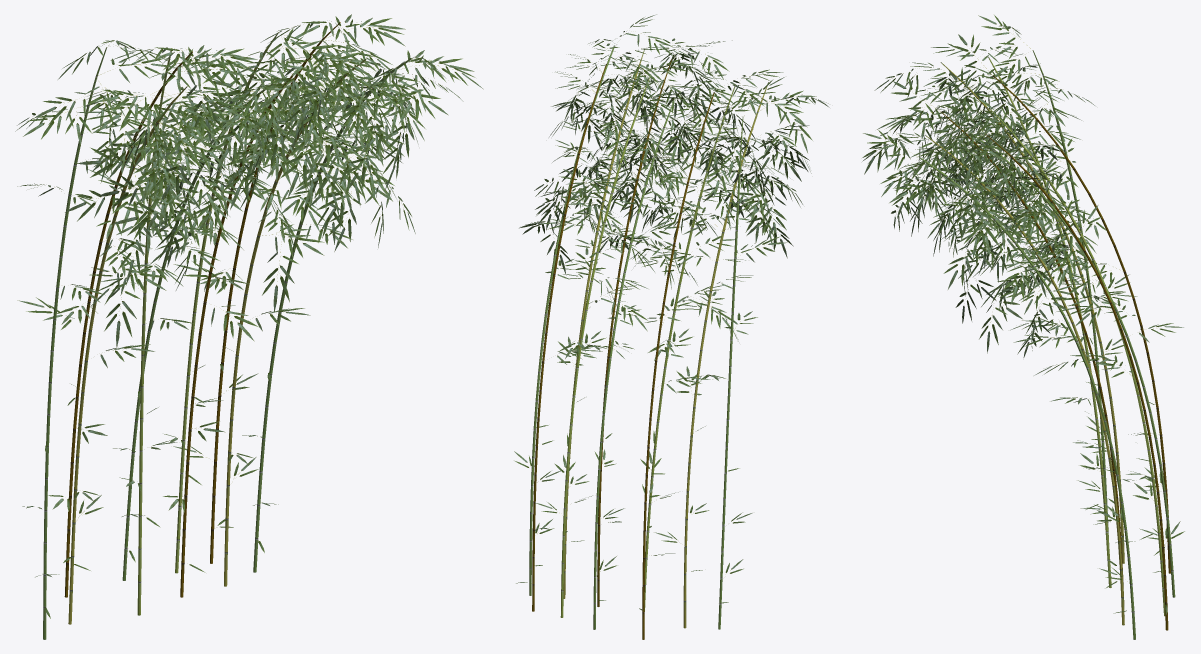
File: bamboo-transformed.glb
3 views of the same model, side by side, from view 1: azimuth 30°, elevation 25°; view 2: azimuth 150°, elevation 25°; view 3: azimuth 270°, elevation 25° (orthographic). The views are drawn at different scales.
Parts seen in each view (by area): view 1: Object_2, Object_4; view 2: Object_2, Object_4; view 3: Object_2, Object_4.
Part boxes in pixels (<box>): Object_2: <box>15,14,483,618</box>; Object_4: <box>43,22,411,639</box>; Object_2: <box>514,14,829,610</box>; Object_4: <box>529,45,768,639</box>; Object_2: <box>862,15,1184,614</box>; Object_4: <box>919,50,1175,639</box>.
Bounding box in the file's own units: 300 × 500 × 278.
2 materials, 2 textured.
